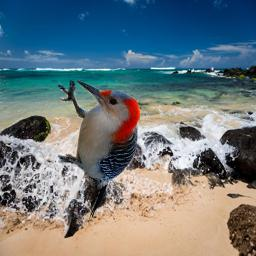Woodpecker: (58, 80, 140, 220)
